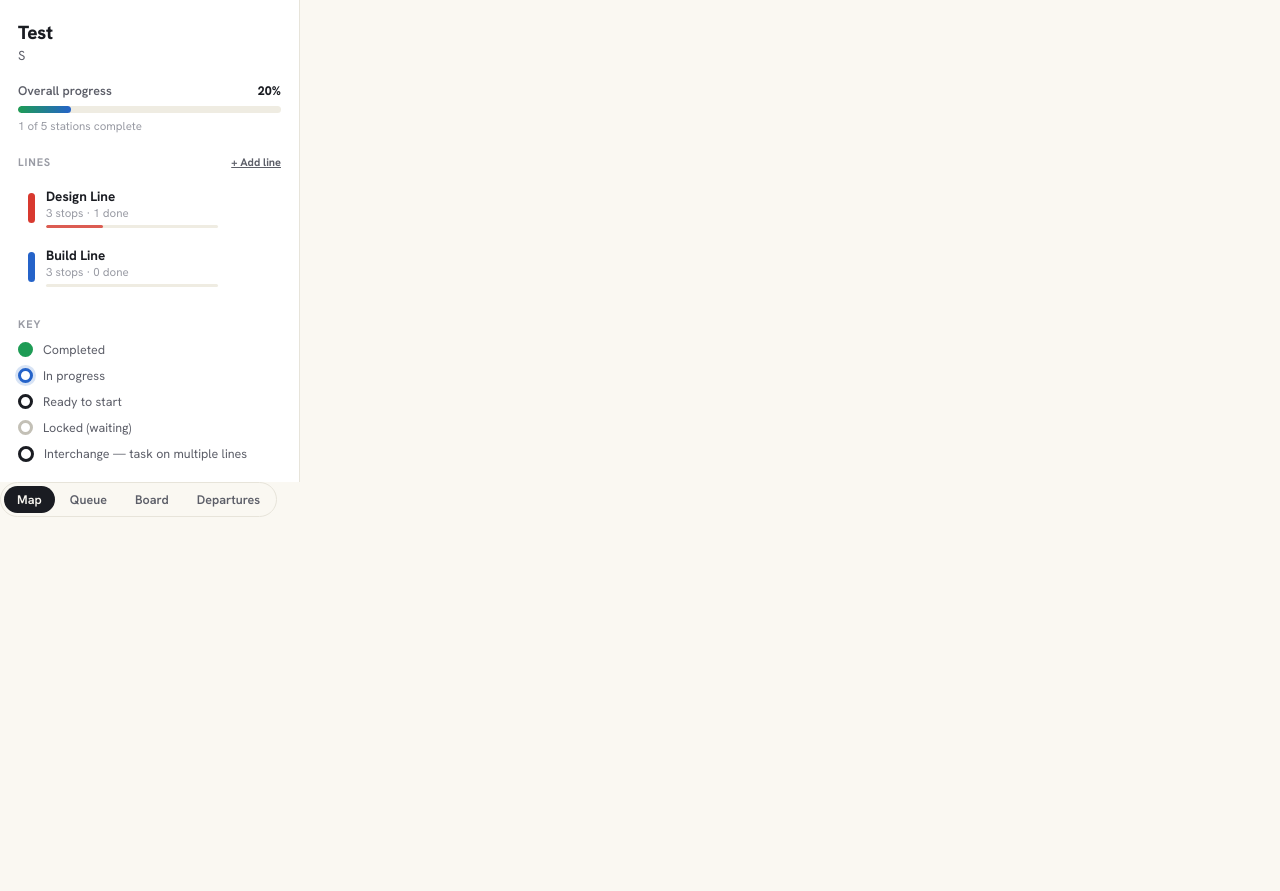
Scenario: line filtering on the boards › Queue removes them entirely in hide mode
Expected: the element with class "lines-list" is shown, left=18, top=179, right=228, bottom=295
Step 1. Click the button "Queue" → (88, 500), box left=57, top=486, right=120, bottom=513
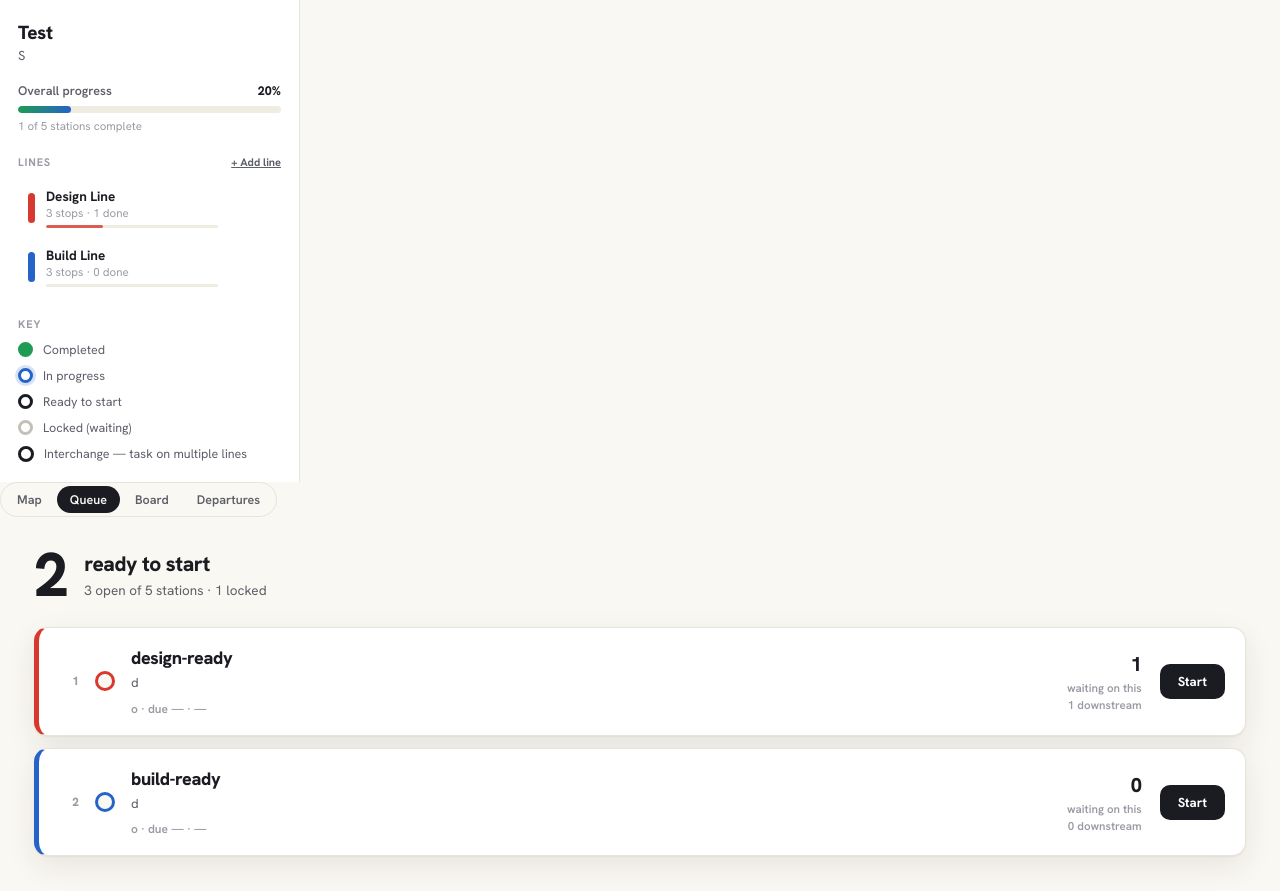
Step 2. Click the button with class "line-row-btn" showing "Design Line 3 stops · 1 done" → (123, 208), box left=18, top=179, right=228, bottom=236
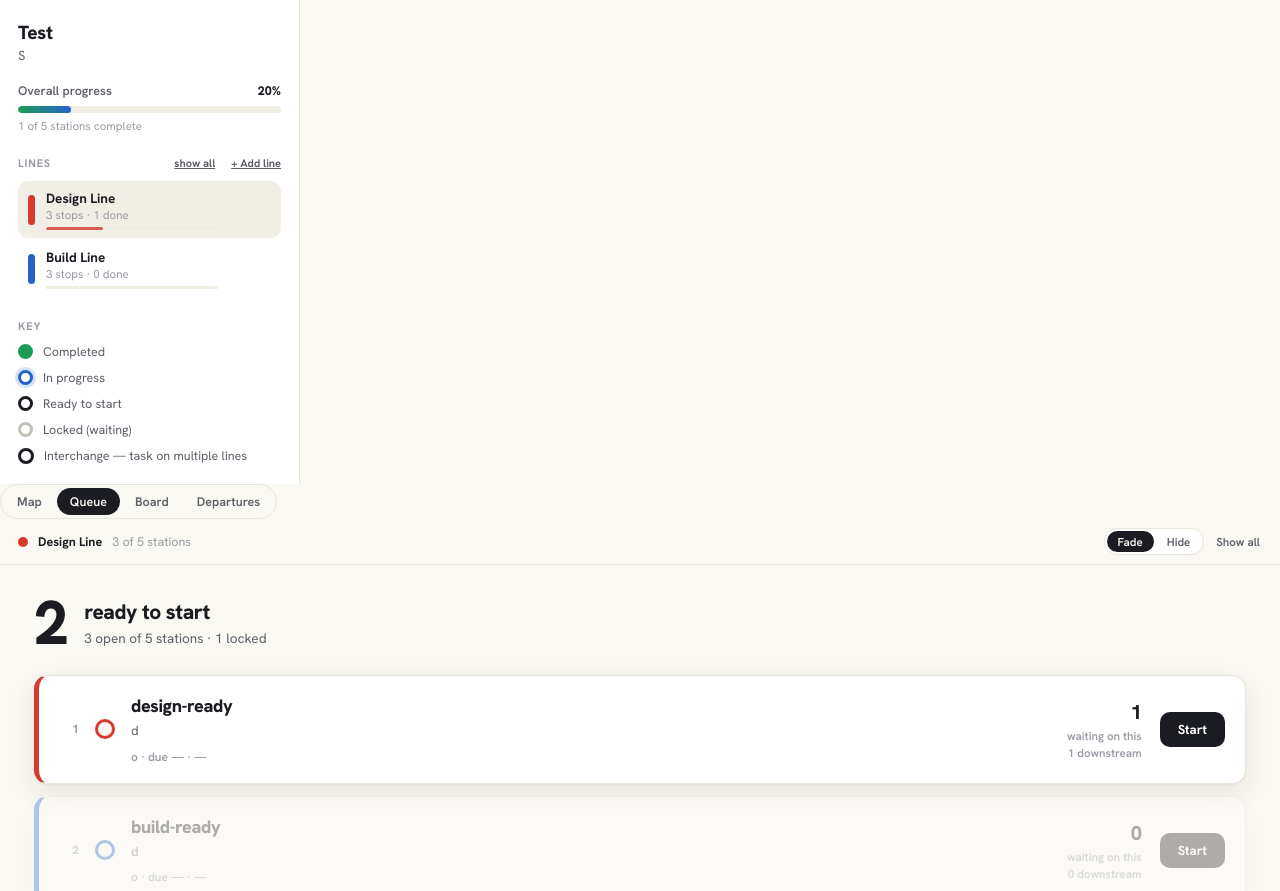
Result: the element with class "filter-bar" is shown at left=0, top=519, right=1279, bottom=565
Step 3. Click the button with class "filter-seg" showing "Hide" → (1179, 542), box left=1156, top=531, right=1201, bottom=552
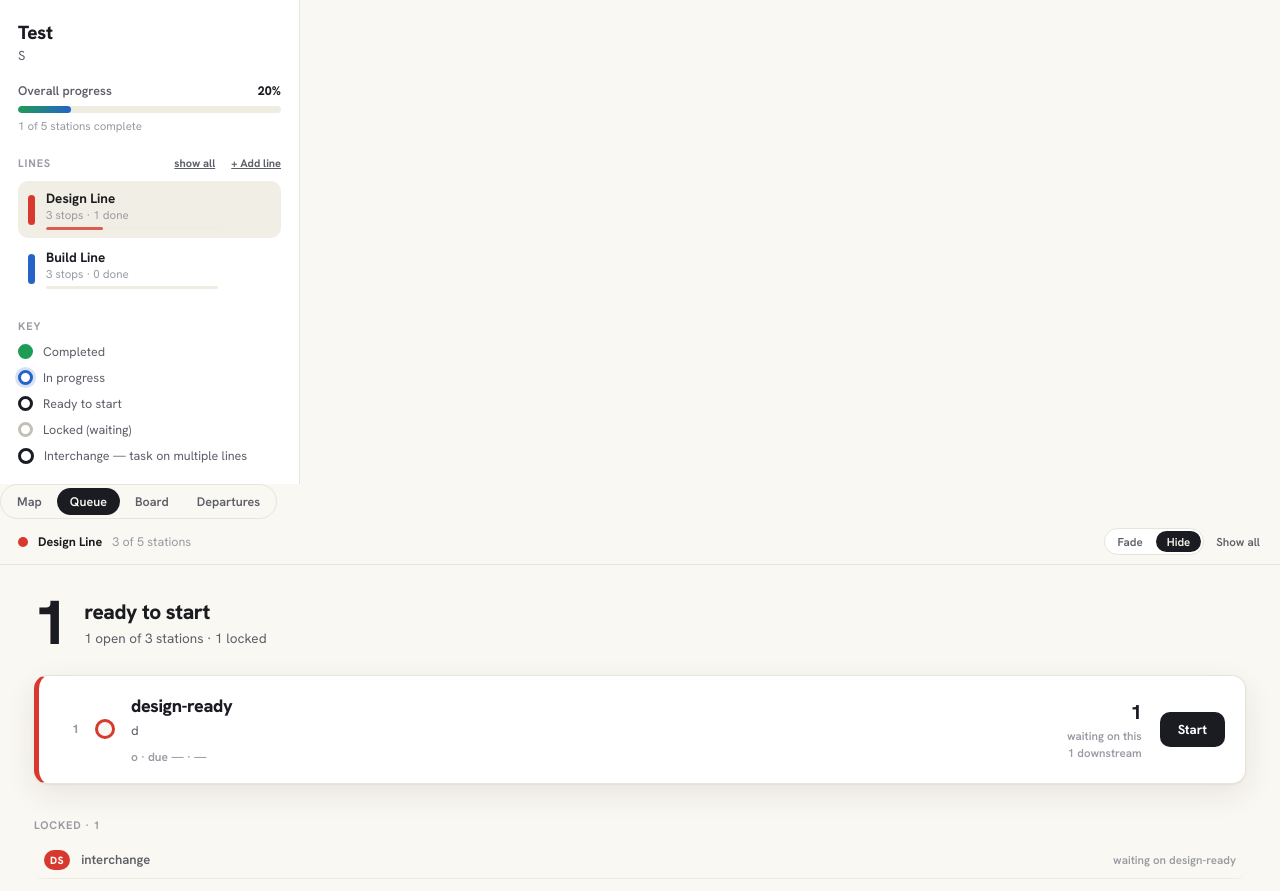
Result: no list items with class "dim" are shown
